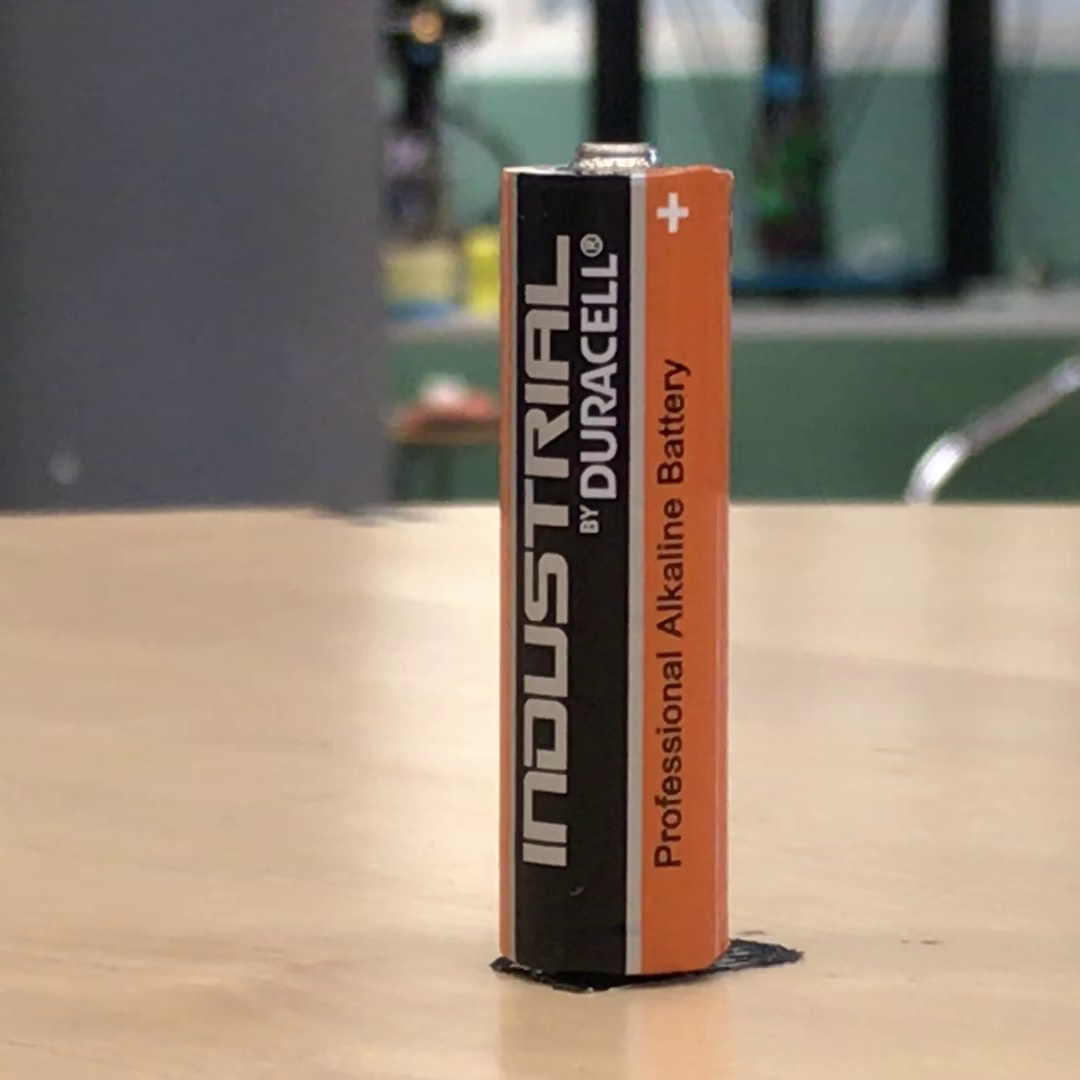keyword: (654, 489, 692, 647)
